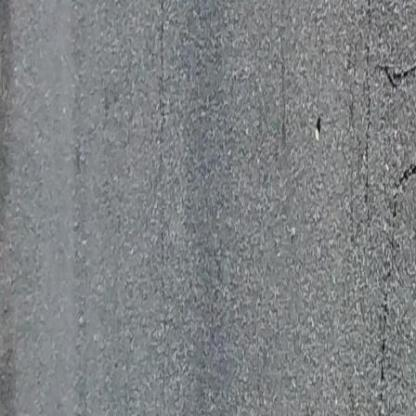Cracks: (297, 102, 338, 161), (361, 52, 416, 90)
